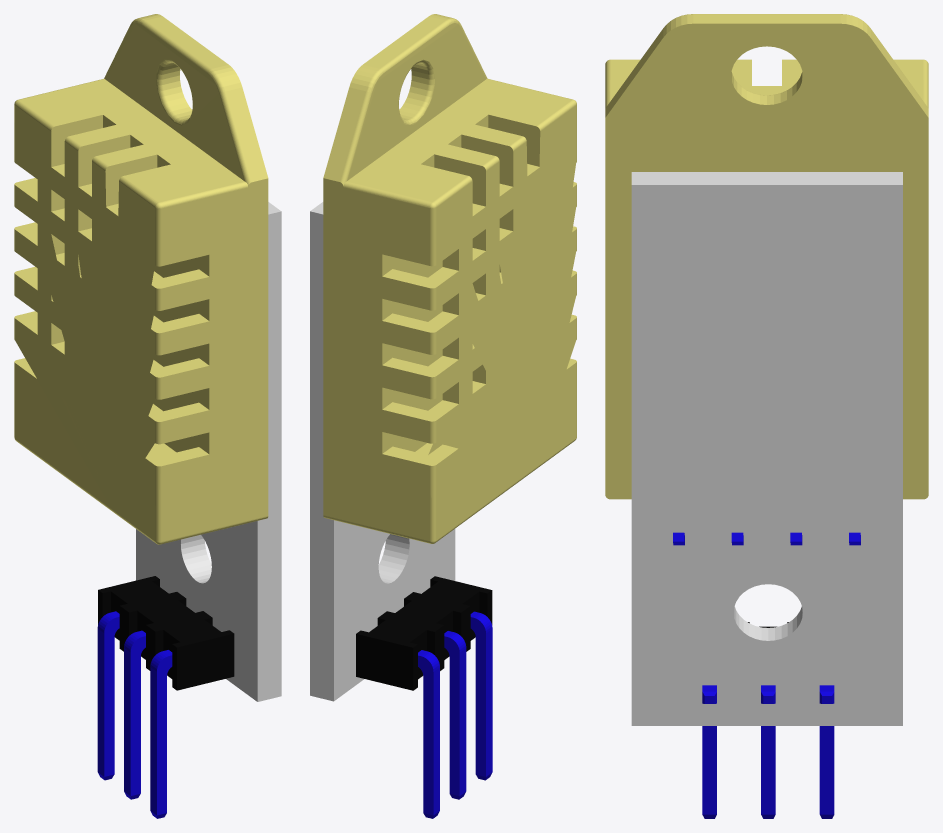
Rendered from DHT22.fbx.
3 renders of one model, left to right at view 1: azimuth 30°, elevation 25°; view 2: azimuth 150°, elevation 25°; view 3: azimuth 270°, elevation 25°, orthographic. The views are drawn at different scales.
Visible parts, largest first — view 1: DHT22; view 2: DHT22; view 3: DHT22.
Boxes of the visible parts, <box> form: DHT22: <box>14,14,281,818</box>; DHT22: <box>310,14,576,818</box>; DHT22: <box>605,14,928,818</box>.
Bounding box in the file's own units: 0.9375 × 4.37 × 1.55.
